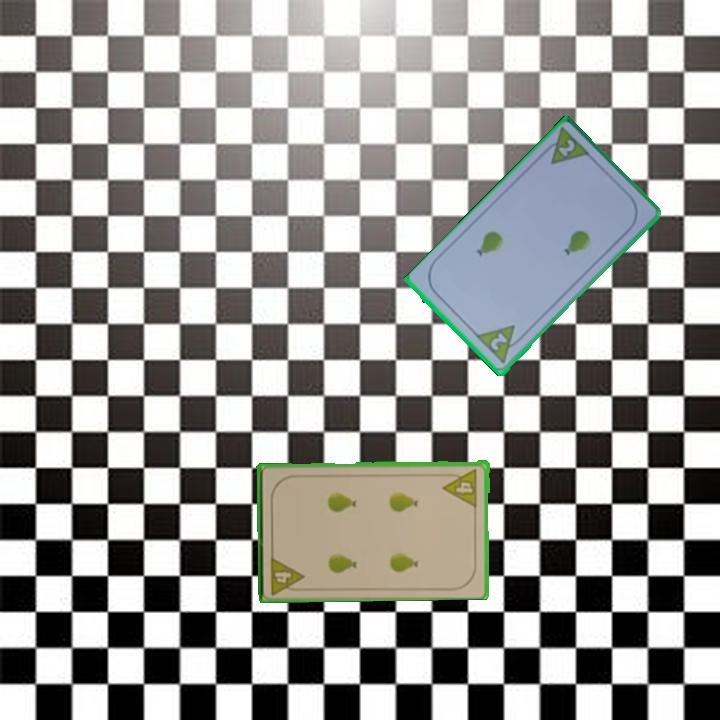2p: (537, 125, 594, 168), (474, 321, 527, 367)
4p: (267, 553, 307, 597), (441, 465, 480, 508)
